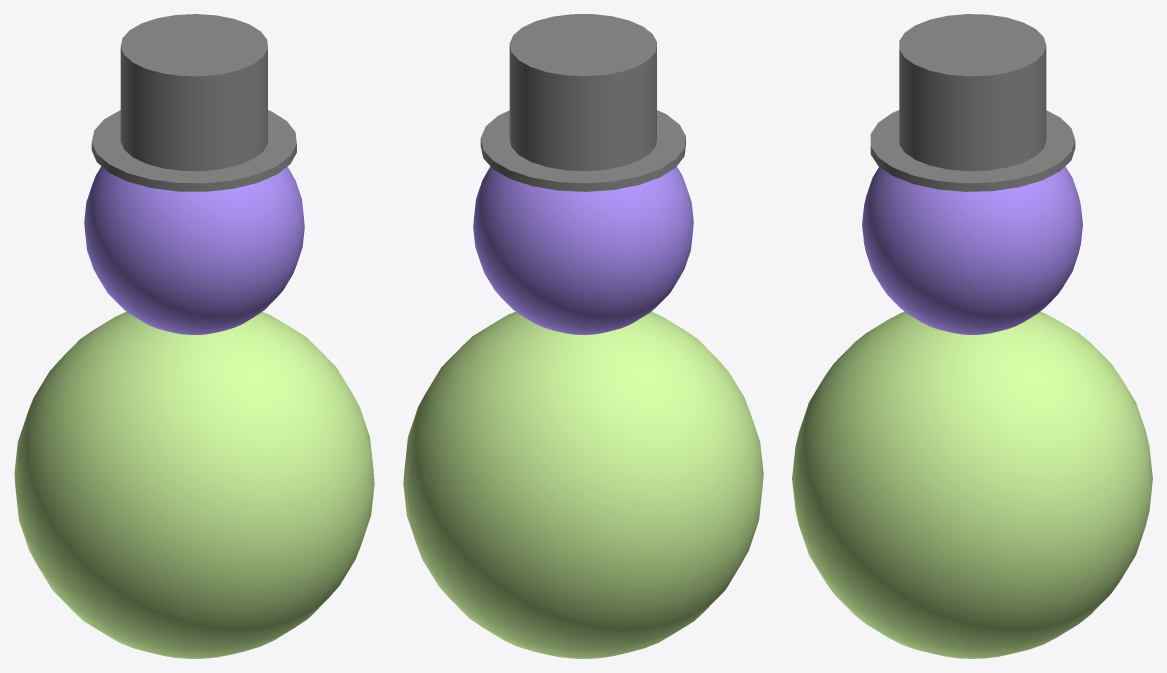
File: Gosn3.fbx
The picture shows the model from 3 angles, left to right: view 1: azimuth 30°, elevation 25°; view 2: azimuth 150°, elevation 25°; view 3: azimuth 270°, elevation 25°; orthographic projection.
Visible parts, largest first — view 1: cika_2, cika_2.001, cika_2.002; view 2: cika_2, cika_2.001, cika_2.002; view 3: cika_2, cika_2.001, cika_2.002.
Part boxes in pixels (bbox=[...]): cika_2: bbox=[14, 312, 374, 658]; cika_2.001: bbox=[84, 166, 304, 334]; cika_2.002: bbox=[91, 14, 296, 191]; cika_2: bbox=[403, 311, 763, 658]; cika_2.001: bbox=[473, 166, 693, 334]; cika_2.002: bbox=[480, 14, 685, 191]; cika_2: bbox=[792, 311, 1152, 658]; cika_2.001: bbox=[862, 166, 1082, 334]; cika_2.002: bbox=[870, 14, 1075, 191].
Bounding box in the file's own units: 5301 × 9675 × 5301.
